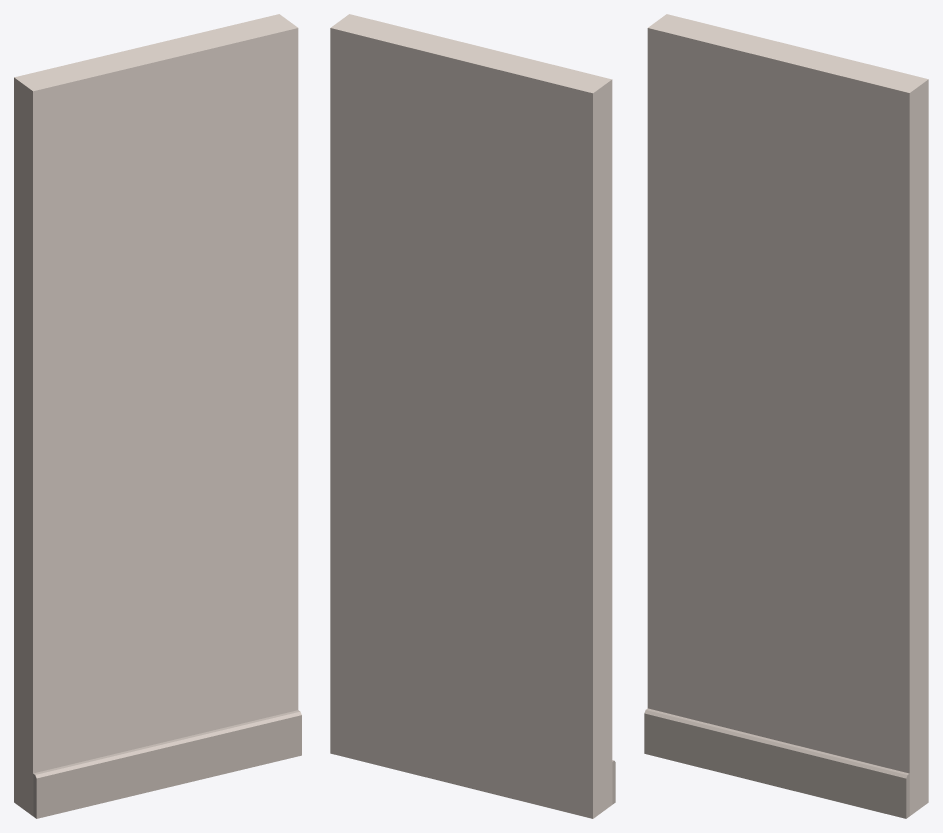
Rendered from WallSingleSkirtingSmall.fbx.
The picture shows the model from 3 angles, left to right: view 1: azimuth 30°, elevation 25°; view 2: azimuth 150°, elevation 25°; view 3: azimuth 330°, elevation 25°; orthographic projection.
Parts seen in each view (by area): view 1: Wall_Inner_Skirting_80; view 2: Wall_Inner_Skirting_80; view 3: Wall_Inner_Skirting_80.
Part boxes in pixels (bbox=[...]): Wall_Inner_Skirting_80: bbox=[14, 14, 301, 818]; Wall_Inner_Skirting_80: bbox=[330, 14, 615, 818]; Wall_Inner_Skirting_80: bbox=[644, 14, 928, 818].
Size of the model in its own units: 96 by 252 by 15.04.
Materials: 1 (1 with a texture image).
